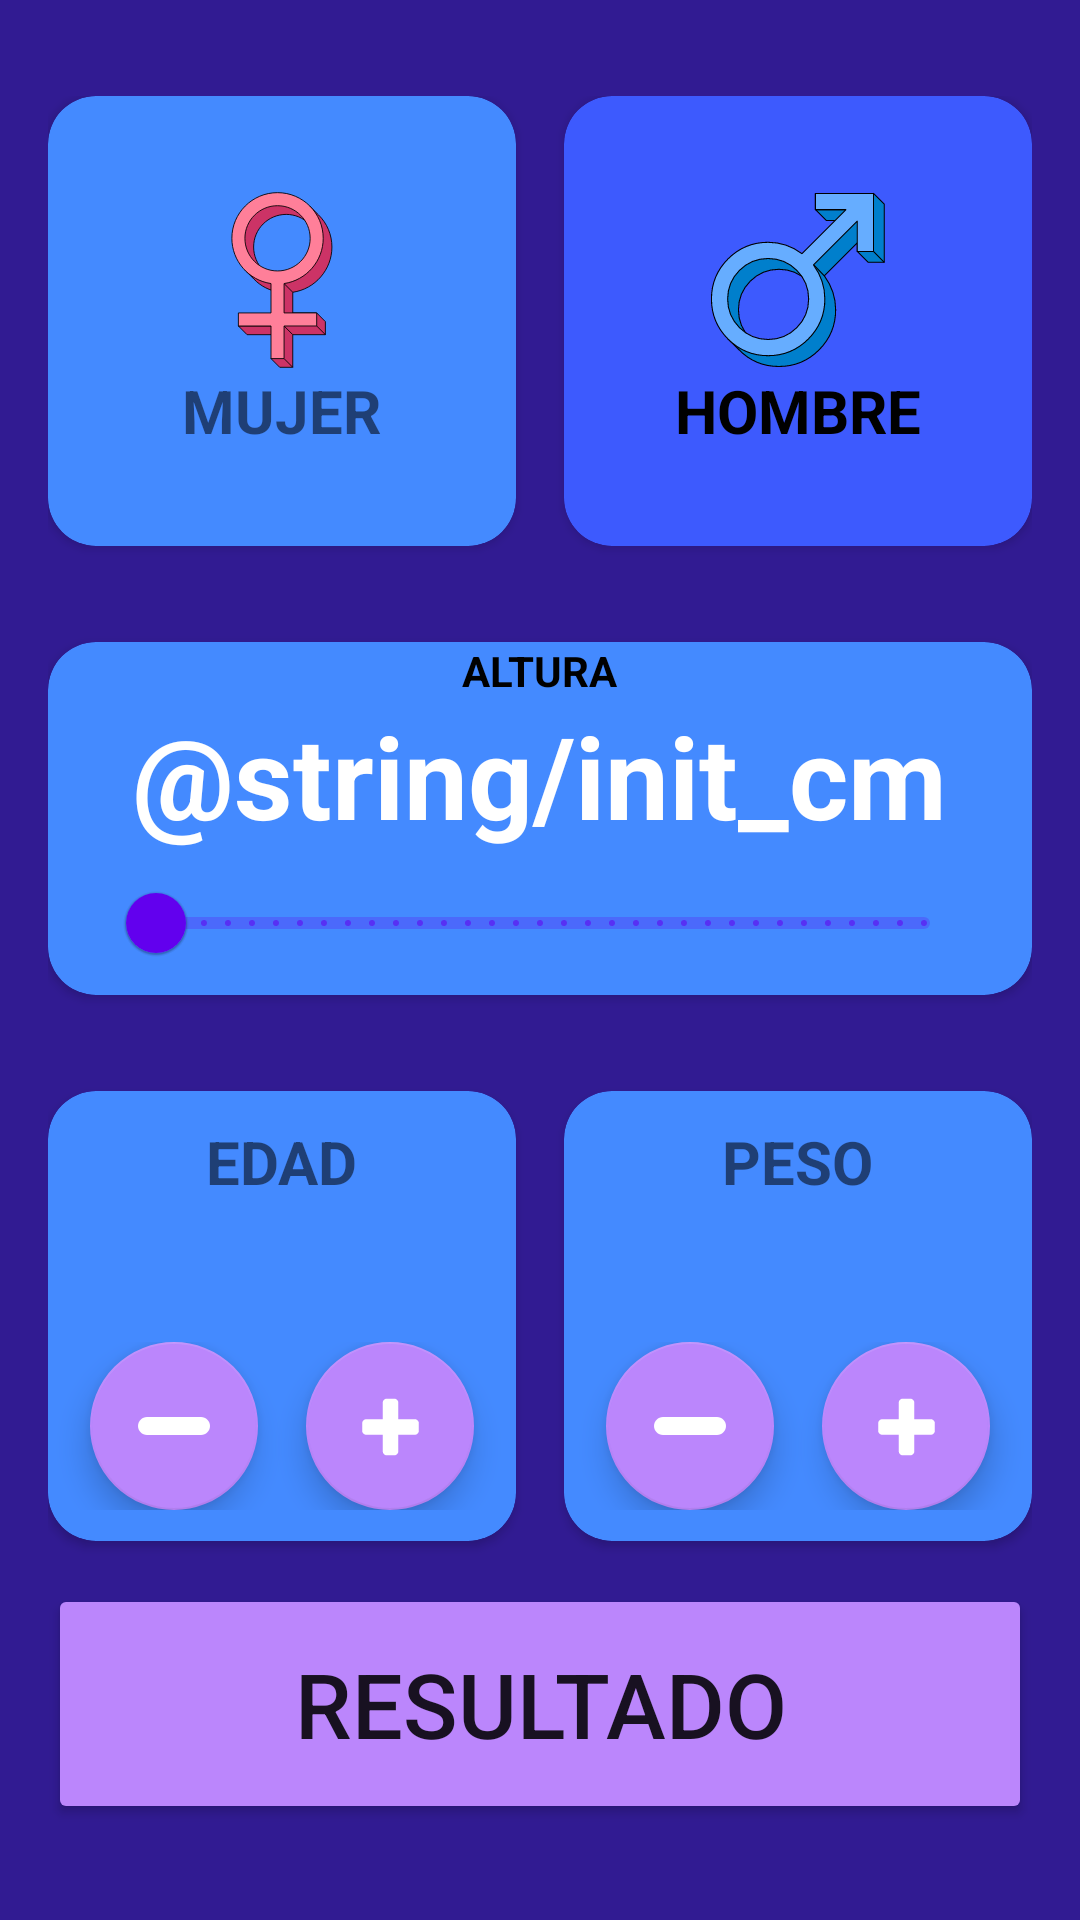

Screen size 1080x1920. Icon name, then its center in pixels as [x,y]:
add: [390,1426], [906,1426]
subtract: [174,1426], [690,1426]
Symbolo Femenino: [282,280]
Symbolo Masculino: [798,280]
